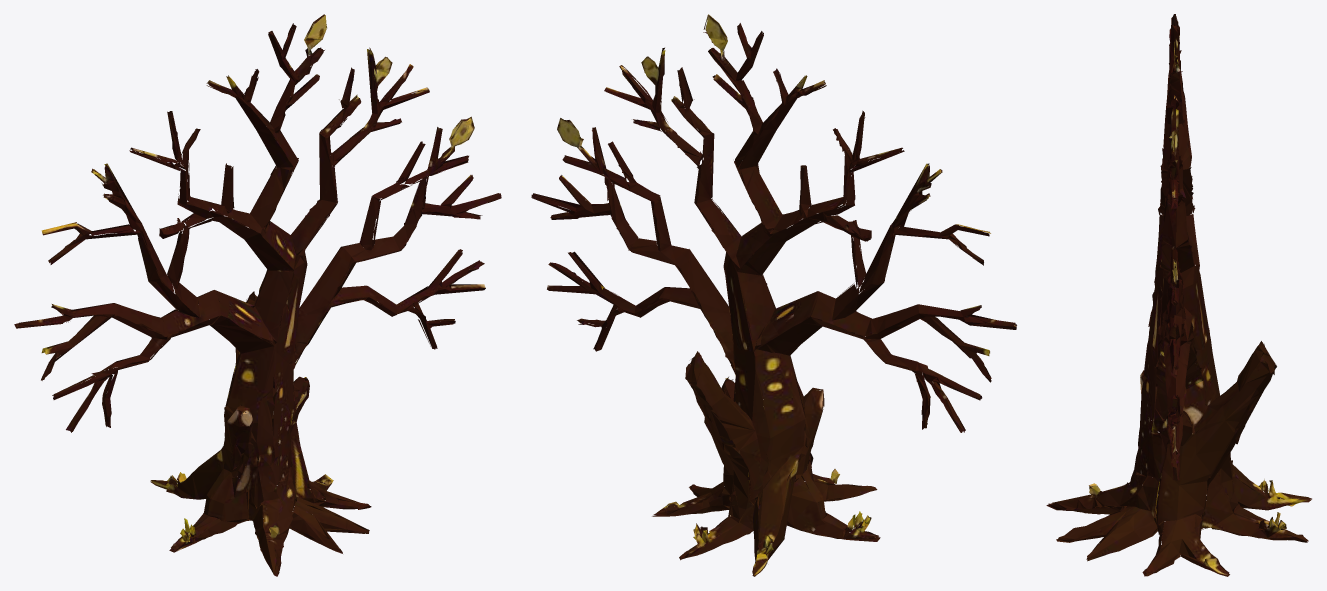
Rendered from dead_tree.glb.
3 views of the same model, side by side, from view 1: azimuth 30°, elevation 25°; view 2: azimuth 150°, elevation 25°; view 3: azimuth 270°, elevation 25° (orthographic). The views are drawn at different scales.
Parts seen in each view (by area): view 1: obj.obj; view 2: obj.obj; view 3: obj.obj.
Part boxes in pixels (<box>): obj.obj: <box>14,14,501,576</box>; obj.obj: <box>531,14,1016,576</box>; obj.obj: <box>1046,14,1311,576</box>.
Size of the model in its own units: 5.67 by 5.5 by 2.53.
1 material, 1 textured.
